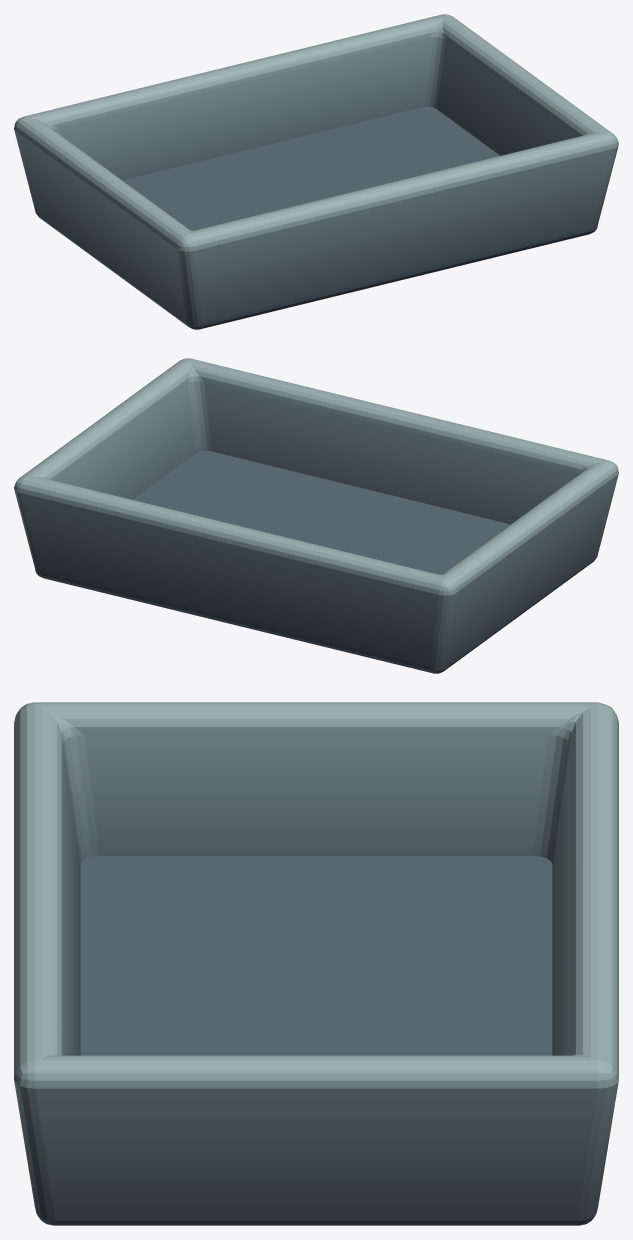
File: MetalWaterCase.fbx
3 renders of one model, top to bottom at view 1: azimuth 30°, elevation 25°; view 2: azimuth 150°, elevation 25°; view 3: azimuth 270°, elevation 25°, orthographic. The views are drawn at different scales.
Visible parts, largest first — view 1: MetalWaterCase; view 2: MetalWaterCase; view 3: MetalWaterCase.
Boxes of the visible parts, box(x1,y1,x2,y2) form: MetalWaterCase: box(14, 14, 618, 329); MetalWaterCase: box(14, 358, 618, 673); MetalWaterCase: box(14, 702, 618, 1225).
Size of the model in its own units: 0.8391 by 0.1836 by 0.5731.
